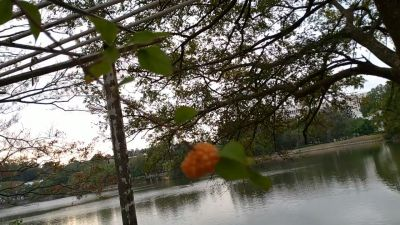eggs: (181, 142, 222, 179)
